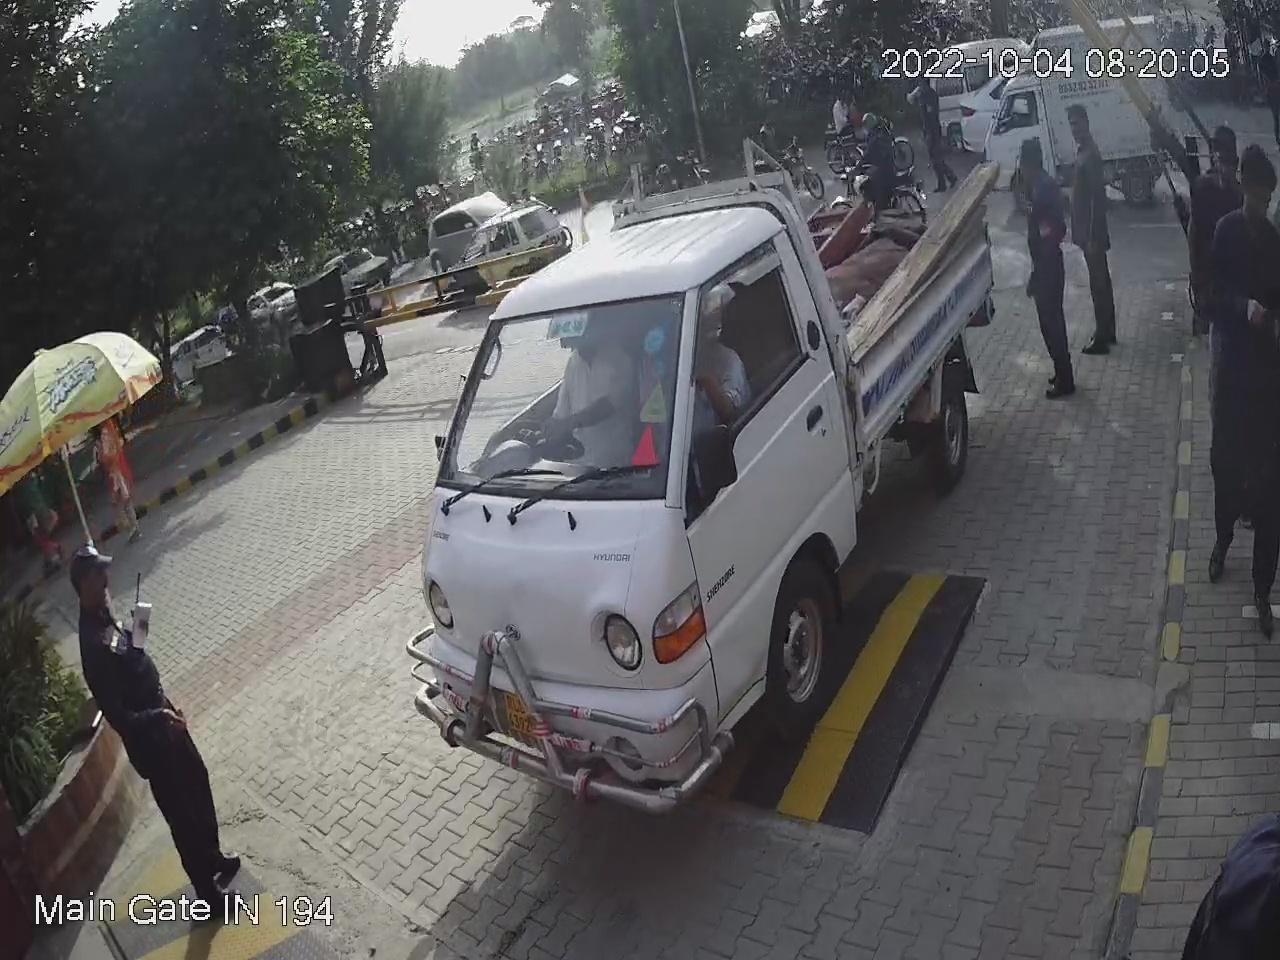windshield: (433, 285, 673, 507)
